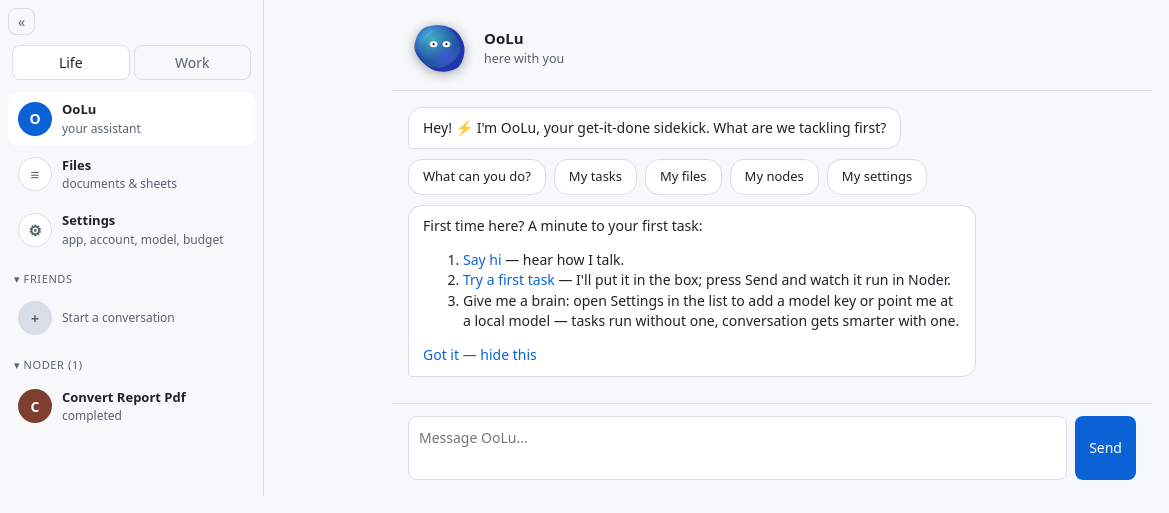
Scenario: Life › Friends and Noder fold away for a clear view, and stay folded
Later steps or results of the test are not shown.
Expected: the text "Convert Report Pdf" is shown, [62, 388, 186, 407]
Click the button "▾ Noder (1)". click: (132, 365)
box: [14, 357, 249, 374]
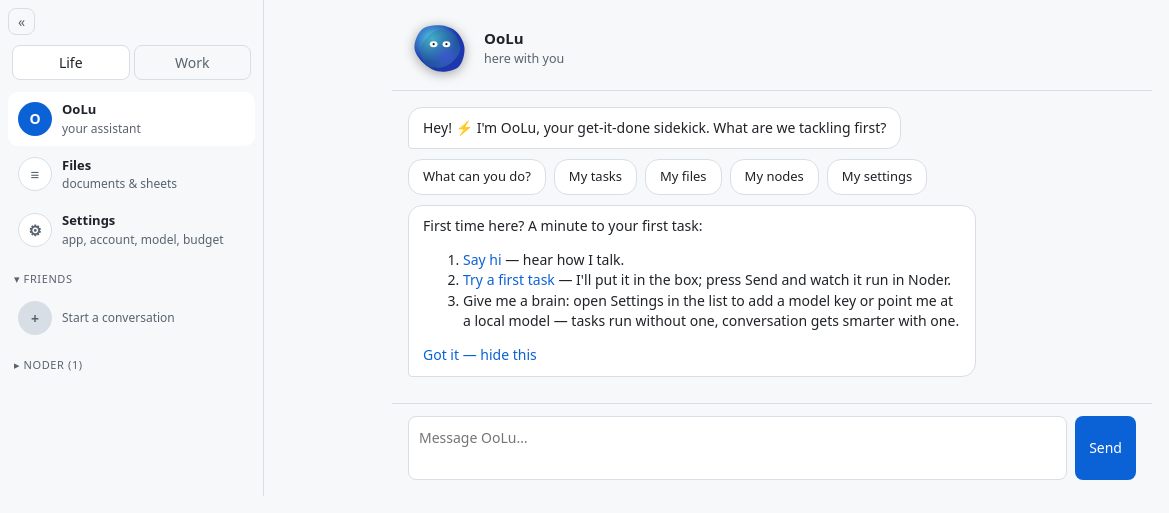
Expected: the button "Convert Report Pdf" is gone
Click the button "▾ Friends". click: (132, 279)
box: [14, 270, 249, 287]
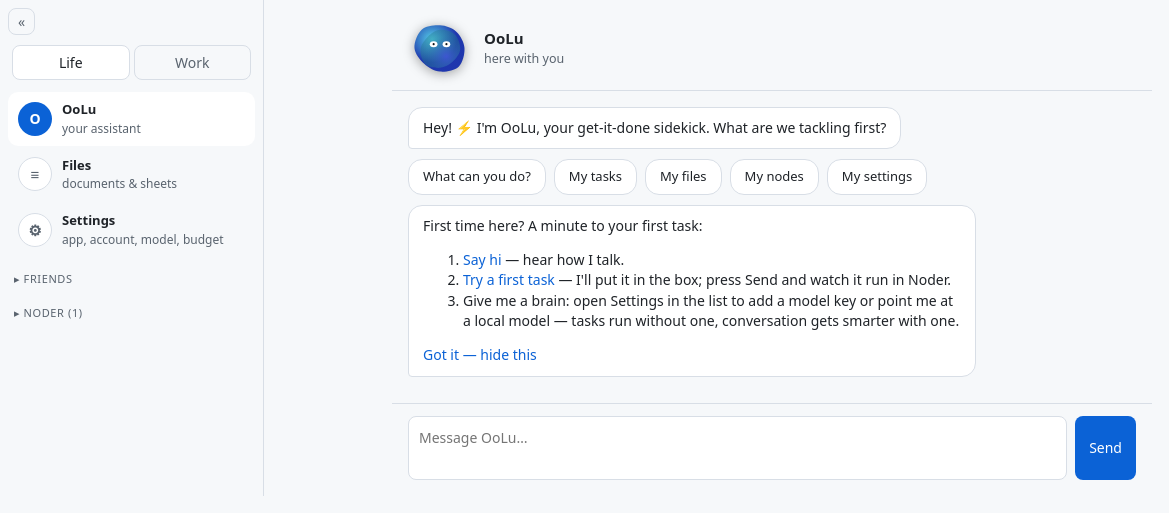
Expected: the button "Start a conversation" is gone
